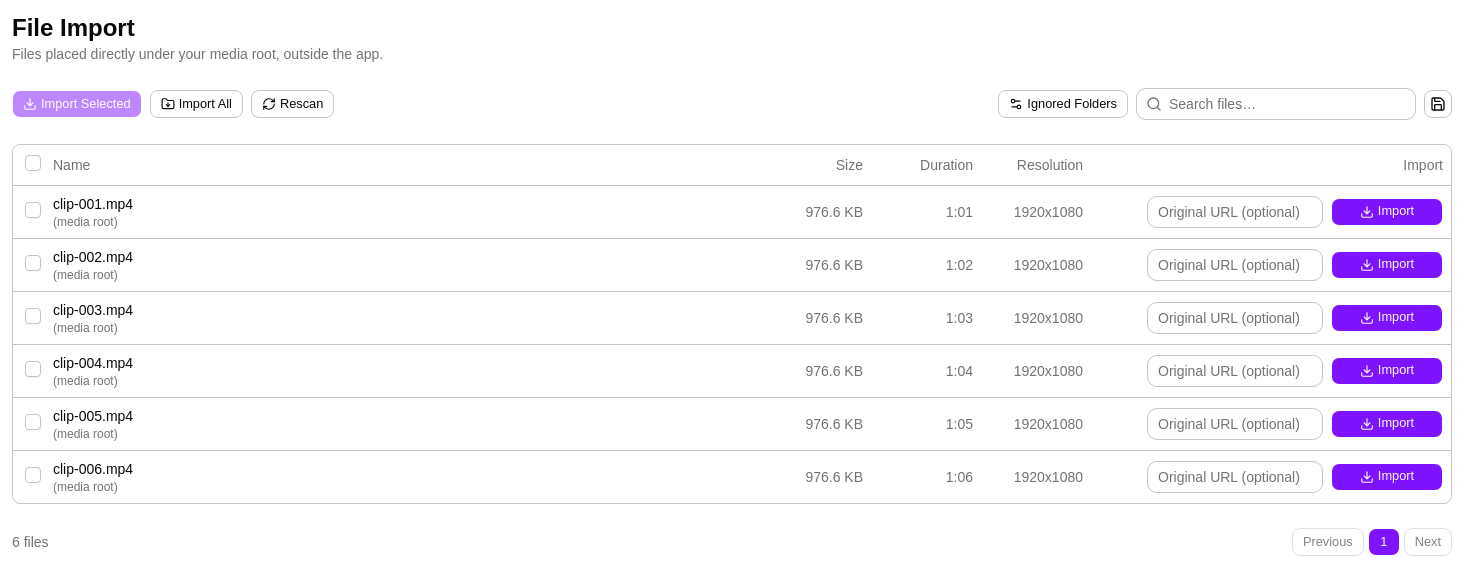
Test: ImportPage table › imported rows › are dimmed, kept, with a disabled checkbox and a disabled button
expect the text "clip-003.mp4" is shown: met, box [53,302,133,318]
Click the button "Import" in the row of "clip-003.mp4": (1387, 318) [1331,304,1443,332]
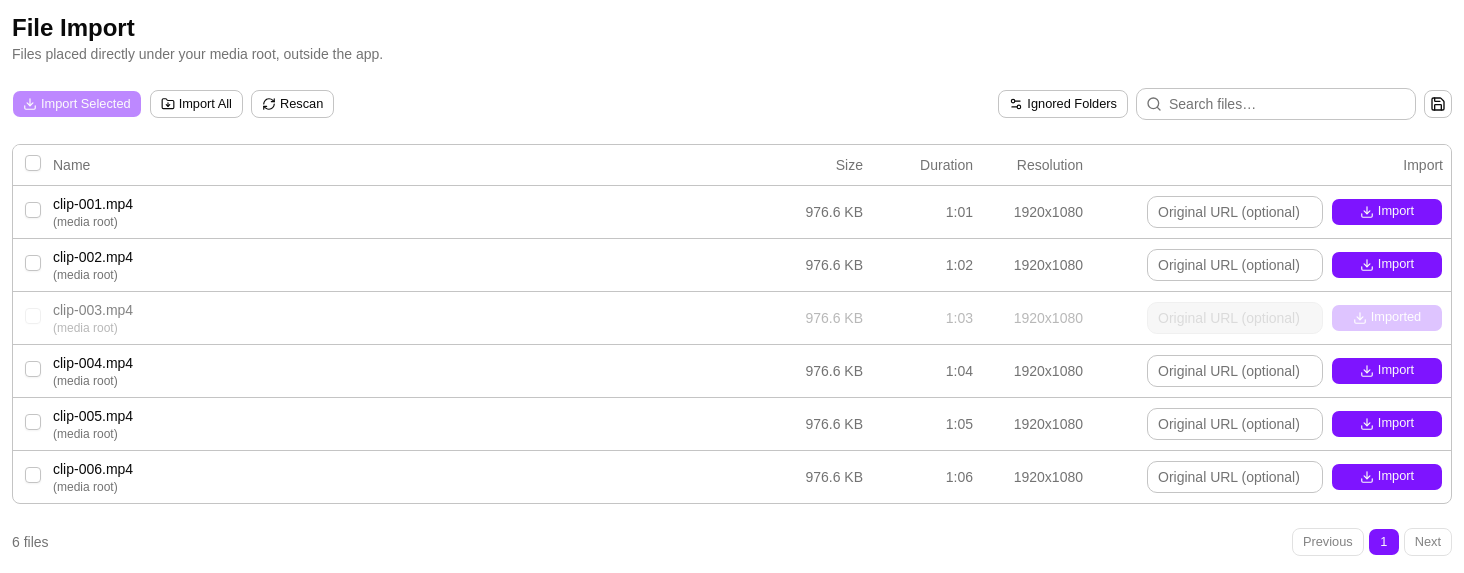
expect the text "6 files" is shown: met, box [12,532,49,552]
expect the button "Imported" is shown: met, box [1331,304,1443,332]
expect the button "Imported" is disabled: met, box [1331,304,1443,332]
